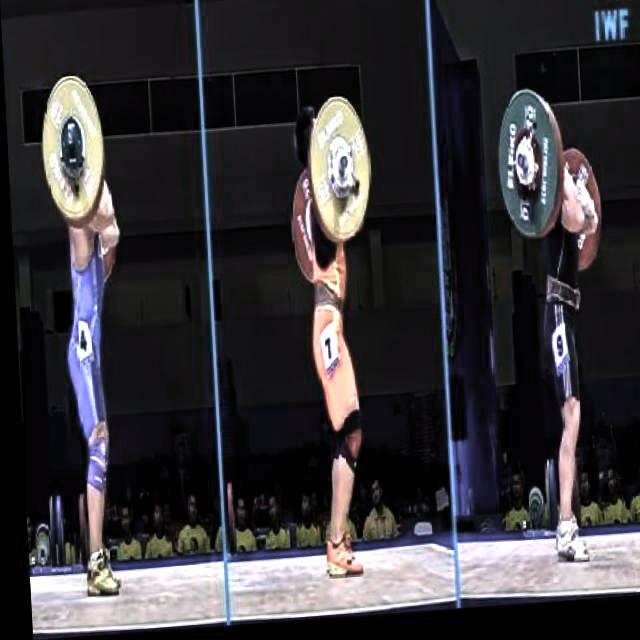barbell: (32, 69, 113, 236), (485, 88, 565, 256), (300, 91, 377, 253)
